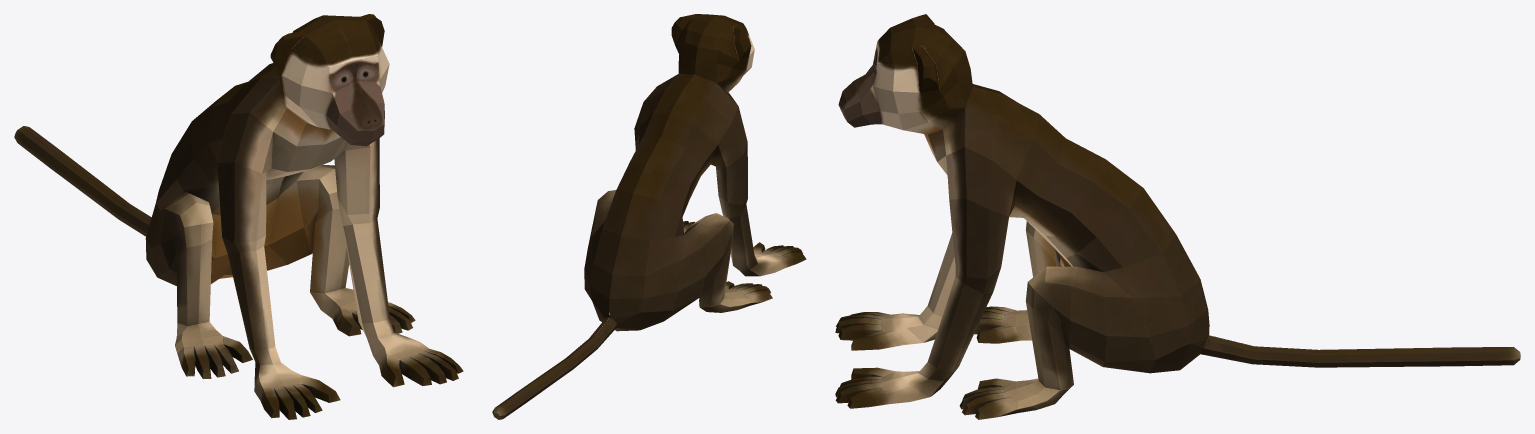
Rendered from 0yRz2AkLuuo.glb.
The picture shows the model from 3 angles, left to right: view 1: azimuth 30°, elevation 25°; view 2: azimuth 150°, elevation 25°; view 3: azimuth 270°, elevation 25°; orthographic projection. The views are drawn at different scales.
Parts seen in each view (by area): view 1: Monkey_mesh; view 2: Monkey_mesh; view 3: Monkey_mesh.
Part boxes in pixels (left/top/right/bottom): Monkey_mesh: left=14, top=14, right=463, bottom=419; Monkey_mesh: left=492, top=14, right=806, bottom=419; Monkey_mesh: left=835, top=14, right=1520, bottom=419.
Size of the model in its own units: 0.6801 by 1 by 1.82.
Materials: 1 (1 with a texture image).
